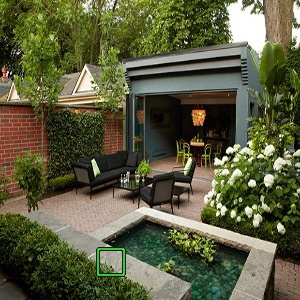square: (94, 245, 128, 278)
